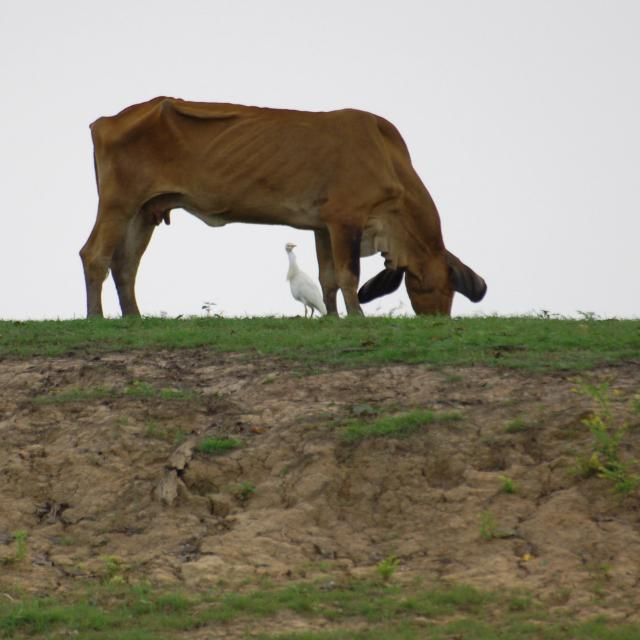cow: (80, 96, 487, 317)
